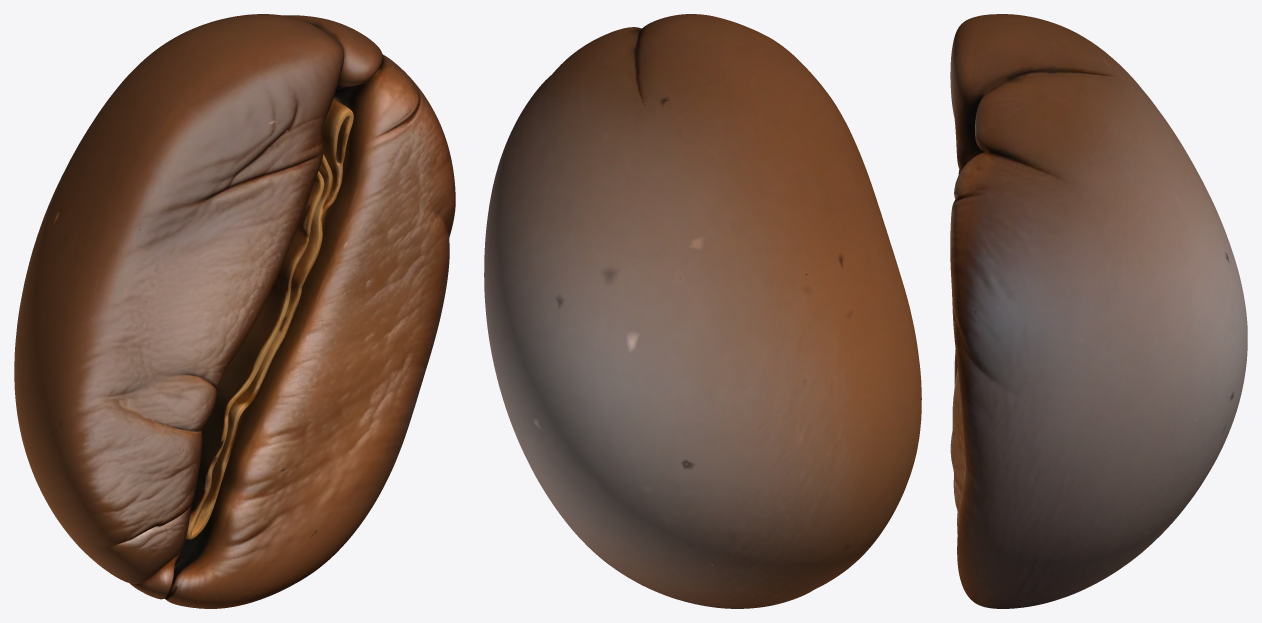
Rendered from seed.glb.
The picture shows the model from 3 angles, left to right: view 1: azimuth 30°, elevation 25°; view 2: azimuth 150°, elevation 25°; view 3: azimuth 270°, elevation 25°; orthographic projection. The views are drawn at different scales.
Parts seen in each view (by area): view 1: node_0; view 2: node_0; view 3: node_0.
Boxes of the visible parts, left/top/right/bottom form: node_0: left=14, top=14, right=455, bottom=608; node_0: left=484, top=14, right=921, bottom=608; node_0: left=950, top=14, right=1247, bottom=608.
Bounding box in the file's own units: 0.8316 × 1.12 × 0.5266.
1 material, 1 textured.
